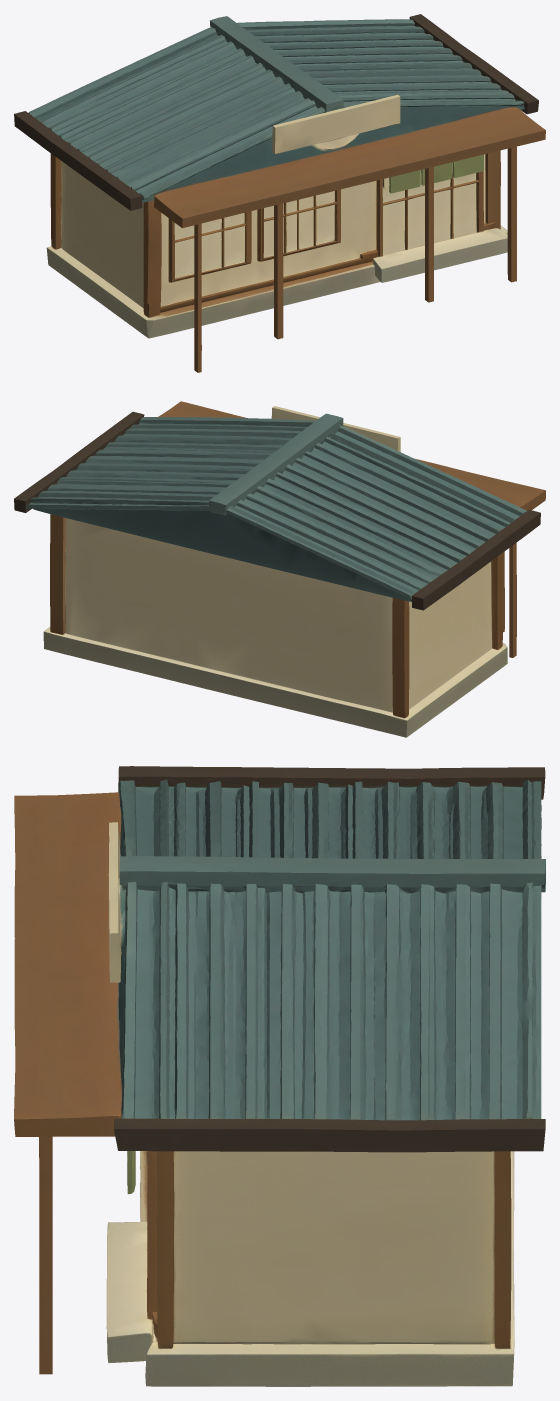
3 renders of one model, top to bottom at view 1: azimuth 30°, elevation 25°; view 2: azimuth 150°, elevation 25°; view 3: azimuth 270°, elevation 25°, orthographic. The views are drawn at different scales.
Visible parts, largest first — view 1: model; view 2: model; view 3: model.
Part boxes in pixels (x1,y1,x2,y2): model: (14,14,545,372); model: (14,401,545,737); model: (14,766,545,1386).
Size of the model in its own units: 1.9 by 0.9649 by 1.18.
Materials: 1 (1 with a texture image).
